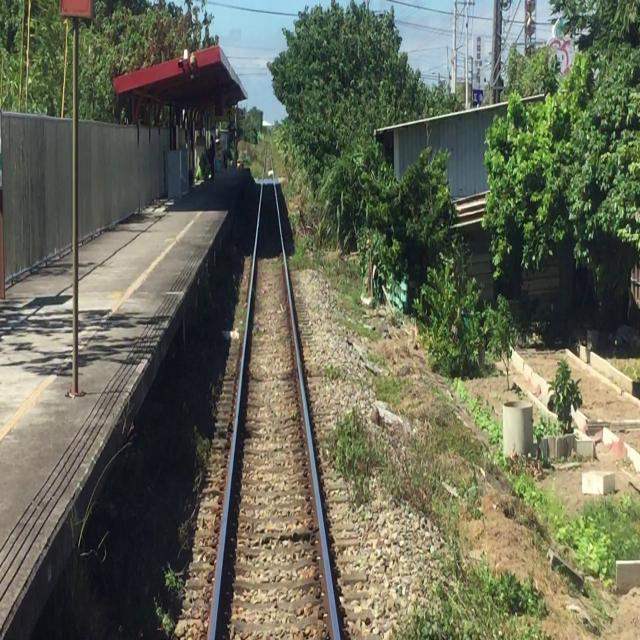rail-track: (229, 169, 328, 640)
